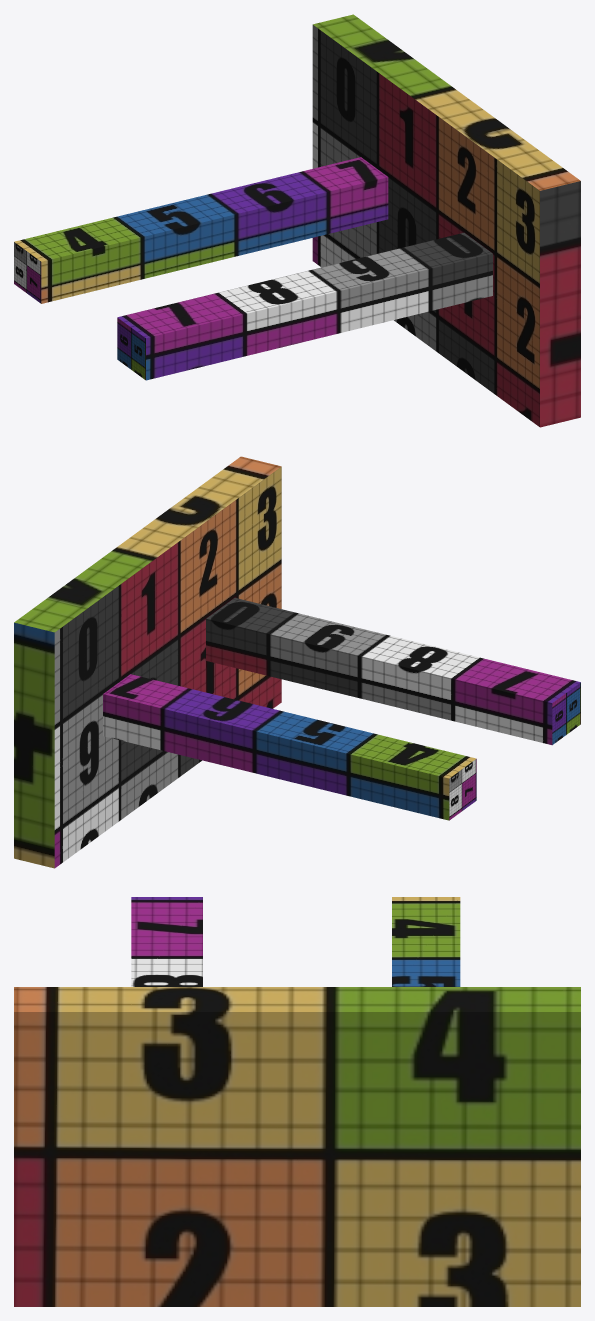
The model's file is Pusher2.fbx.
3 renders of one model, top to bottom at view 1: azimuth 30°, elevation 25°; view 2: azimuth 150°, elevation 25°; view 3: azimuth 270°, elevation 25°, orthographic. The views are drawn at different scales.
Visible parts, largest first — view 1: pCube2; view 2: pCube2; view 3: pCube2.
Part boxes in pixels (<box>): pCube2: <box>14,14,580,427</box>; pCube2: <box>14,456,580,868</box>; pCube2: <box>14,897,580,1306</box>.
Size of the model in its own units: 6.89 by 4.01 by 6.99.
1 material, 1 textured.
